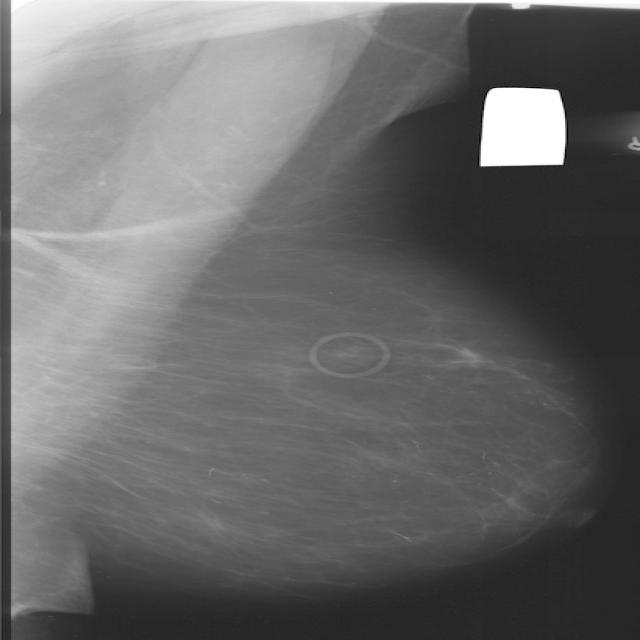tumour: (451, 346, 486, 368)
